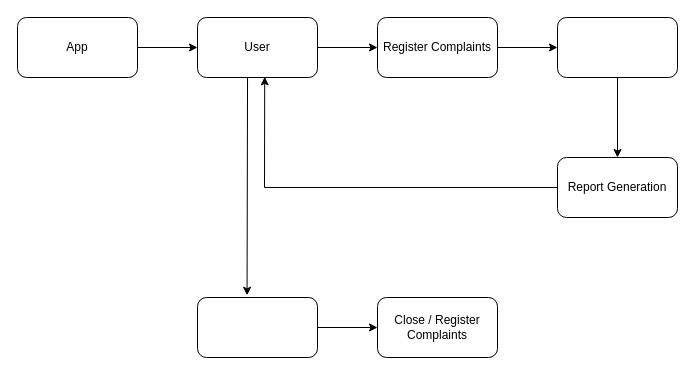
Image size: 695x375. Some labels were removed from this diagram. Here are the shapes that lost their labels. From the top down, the centre of each, then its label:
point (617, 47): Process Complaints
point (257, 327): Feedback
